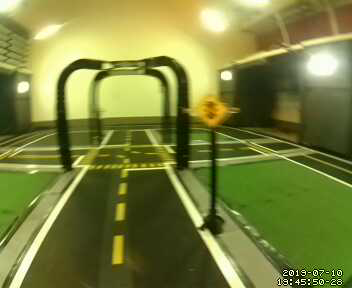Traffic light sign: (193, 94, 229, 130)
